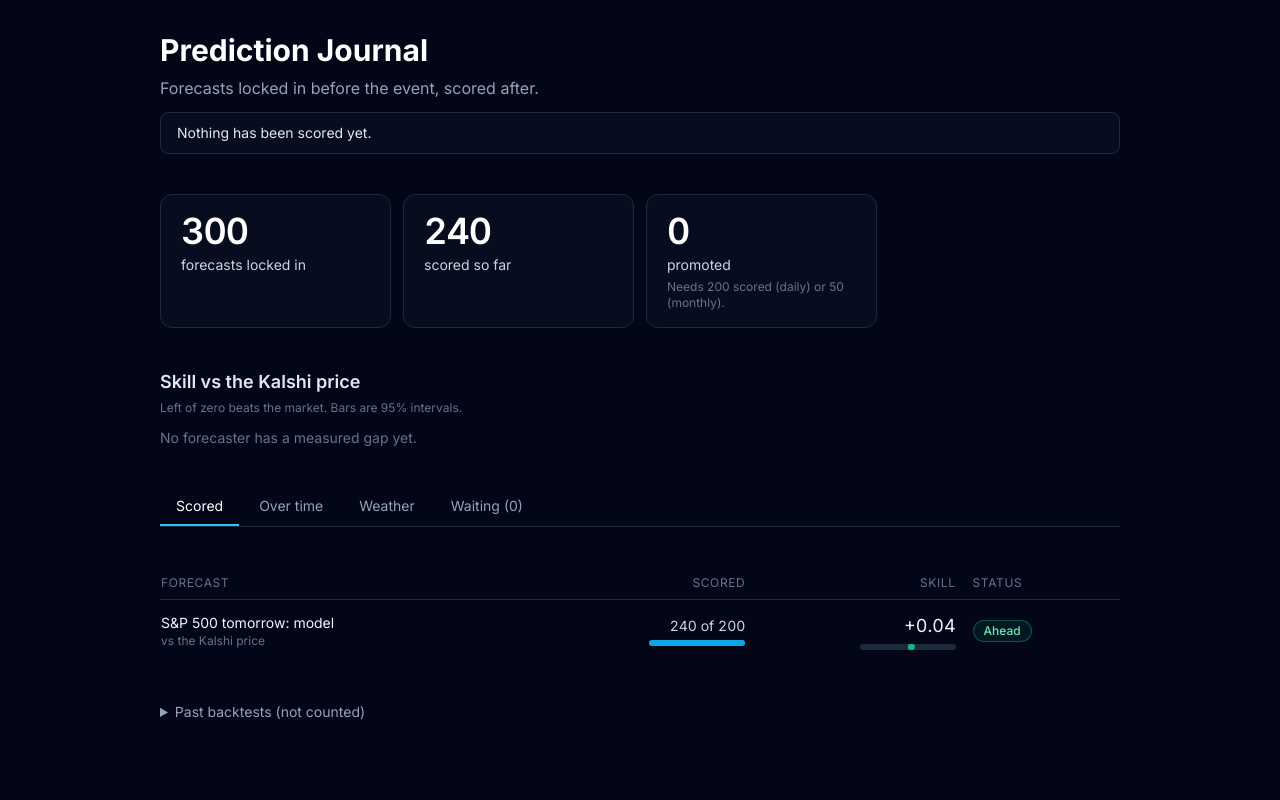
Test: calibration shows its reference points › says nothing scored yet rather than drawing an empty curve
Step 1. Click the button "S&P 500 tomorrow: model" → [248, 623], box [161,613,334,633]
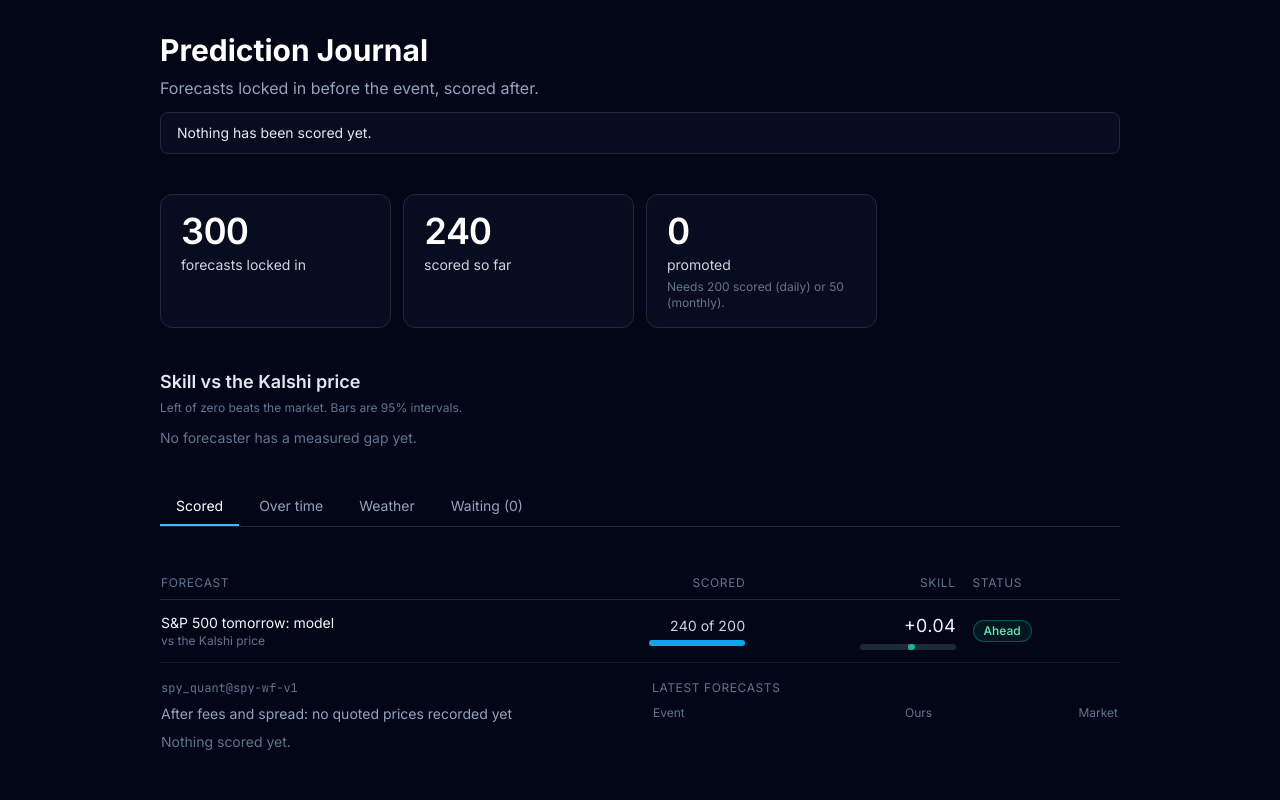
Expected: the text "Nothing scored yet." is shown, [161,733,291,750]
